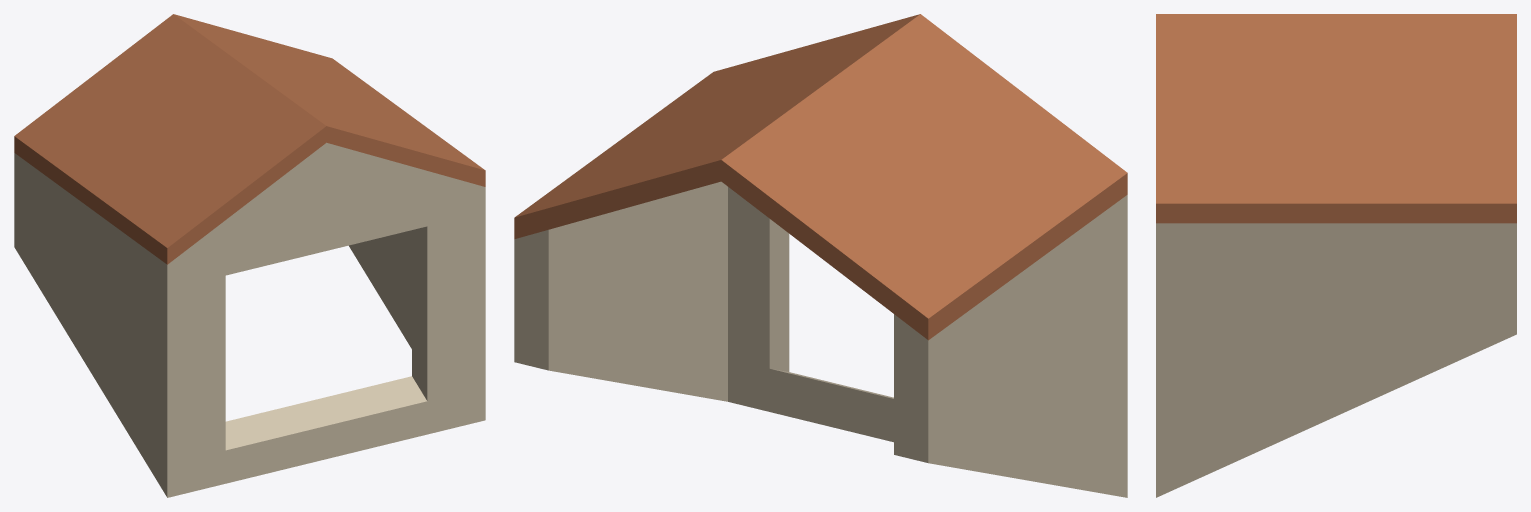
3 views of the same model, side by side, from view 1: azimuth 30°, elevation 25°; view 2: azimuth 150°, elevation 25°; view 3: azimuth 270°, elevation 25° (orthographic). The views are drawn at different scales.
Parts seen in each view (by area): view 1: WholeOpenGabledDormerShell; view 2: WholeOpenGabledDormerShell; view 3: WholeOpenGabledDormerShell.
Boxes of the visible parts, box(x1,y1,x2,y2) form: WholeOpenGabledDormerShell: box(14, 14, 485, 497); WholeOpenGabledDormerShell: box(514, 14, 1127, 497); WholeOpenGabledDormerShell: box(1156, 14, 1516, 497).
Bounding box in the file's own units: 1.2 × 1.2 × 1.
